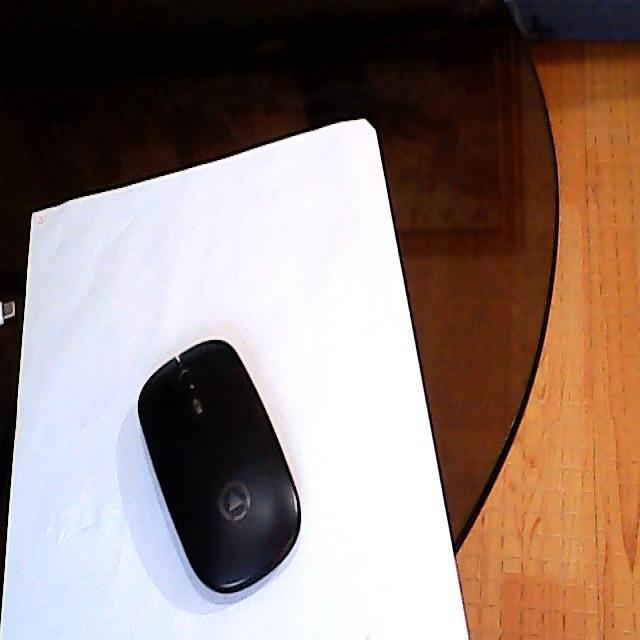Mouse: (138, 334, 304, 596)
